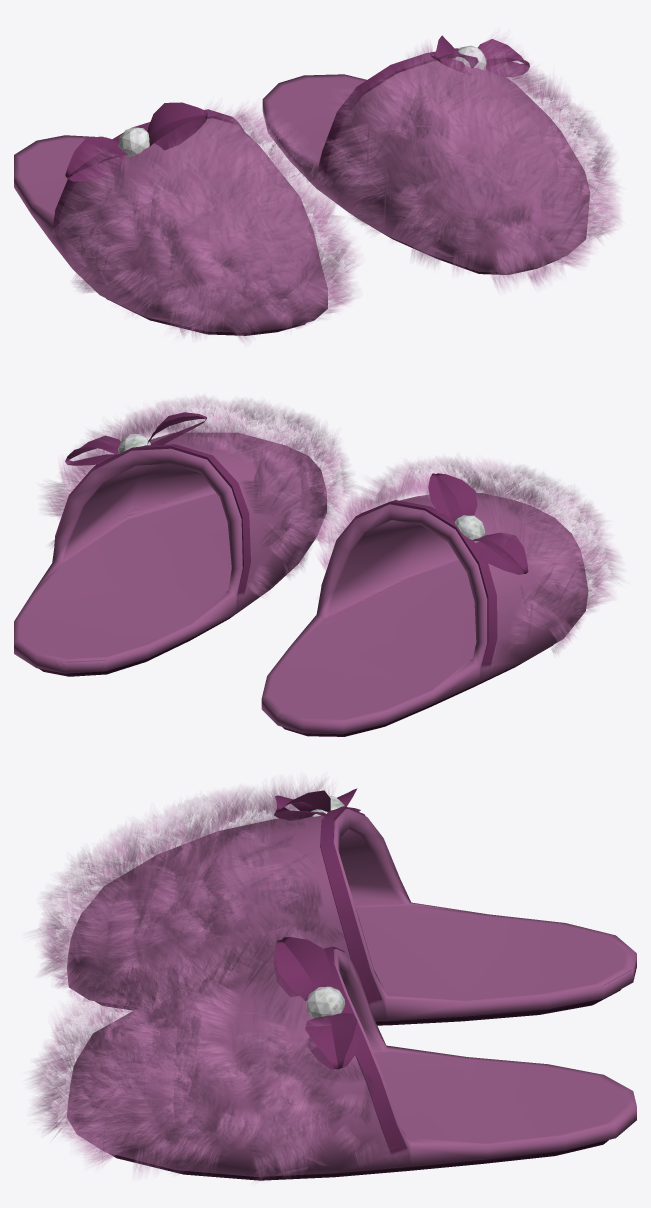
File: pantuflas.glb
The picture shows the model from 3 angles, top to bottom: view 1: azimuth 30°, elevation 25°; view 2: azimuth 150°, elevation 25°; view 3: azimuth 270°, elevation 25°; orthographic projection. The views are drawn at different scales.
Parts seen in each view (by area): view 1: Slipper; view 2: Slipper; view 3: Slipper.
Part boxes in pixels (left/top/right/bottom): Slipper: left=14, top=35, right=621, bottom=342; Slipper: left=14, top=396, right=620, bottom=736; Slipper: left=29, top=779, right=636, bottom=1180.
Bounding box in the file's own units: 0.3584 × 0.1196 × 0.3085.
2 materials, 2 textured.
